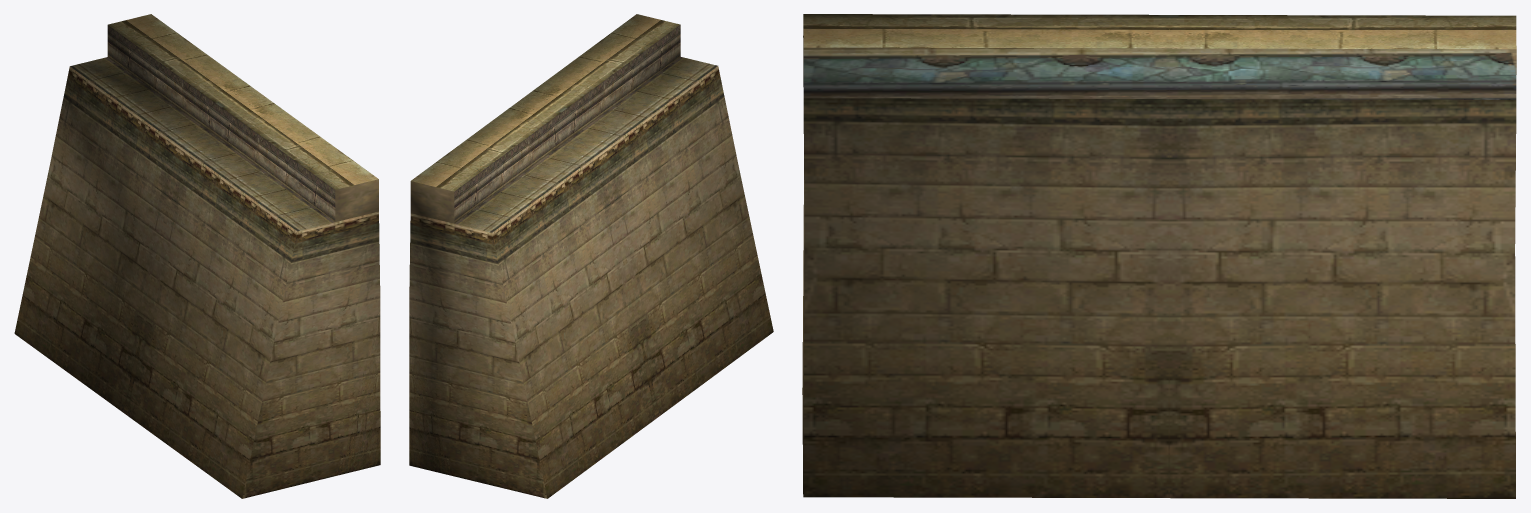
Rendered from S_Build_Wilderness050.FBX.
3 renders of one model, left to right at view 1: azimuth 30°, elevation 25°; view 2: azimuth 150°, elevation 25°; view 3: azimuth 270°, elevation 25°, orthographic. The views are drawn at different scales.
Parts seen in each view (by area): view 1: S_Build_Wilderness050; view 2: S_Build_Wilderness050; view 3: S_Build_Wilderness050.
Part boxes in pixels (<box>): S_Build_Wilderness050: <box>14,14,380,498</box>; S_Build_Wilderness050: <box>409,14,773,498</box>; S_Build_Wilderness050: <box>802,14,1516,498</box>.
Bounding box in the file's own units: 356 × 1009 × 703.
